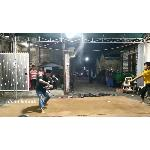Celurit: (44, 84, 58, 99)
